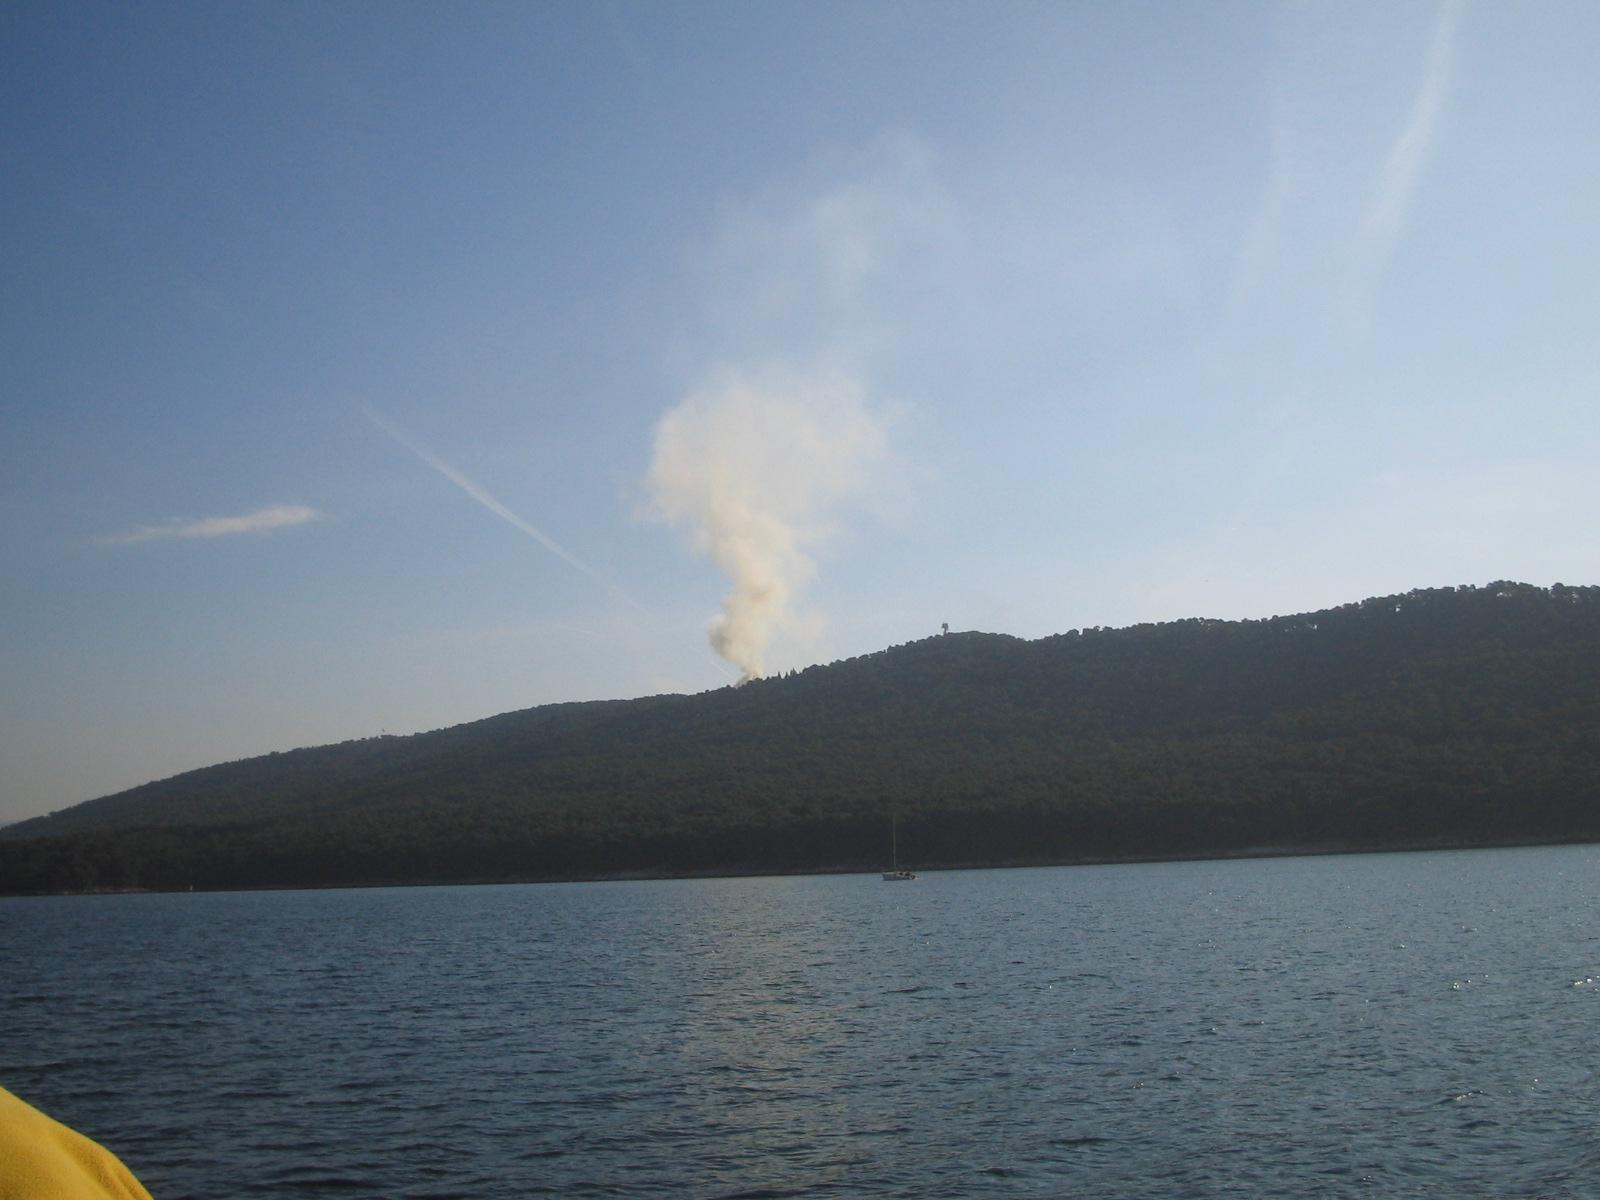Smoke: (655, 222, 867, 692)
